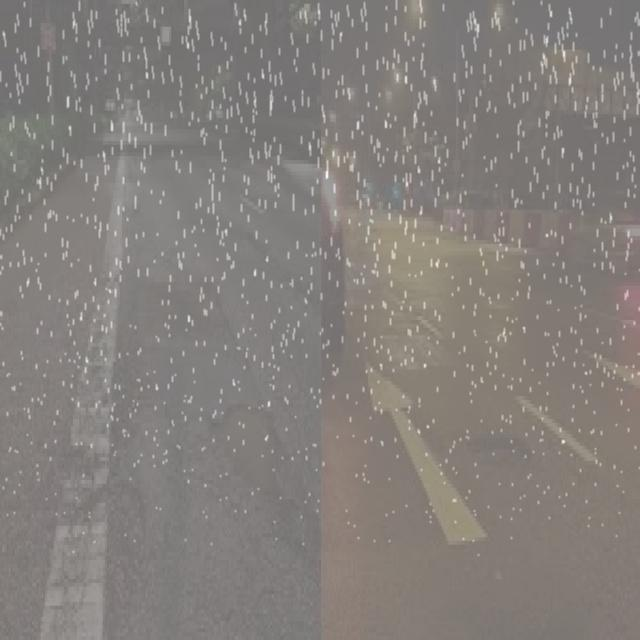Pothole: (134, 384, 307, 538), (126, 251, 262, 355), (28, 434, 130, 528), (343, 296, 438, 376)
